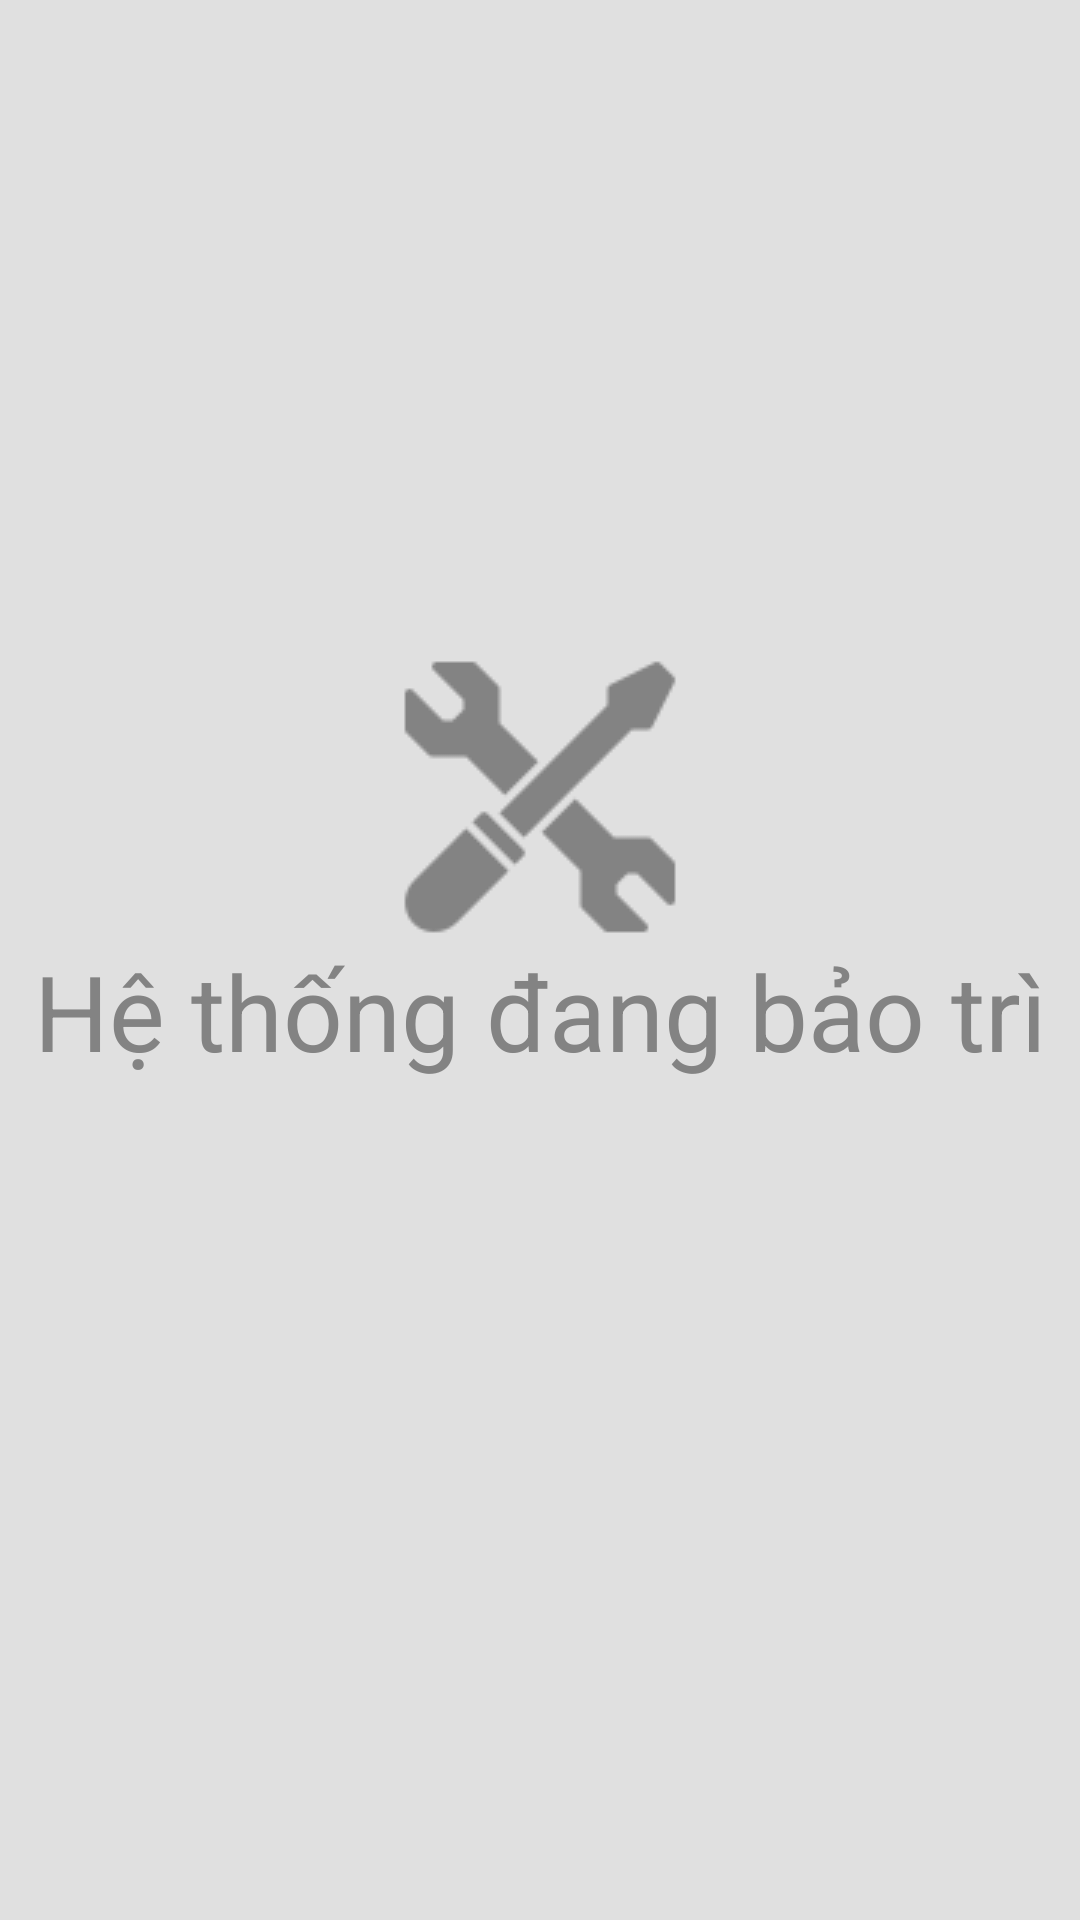

Point at icon controls on the screen. Image size 1080 x 1920, points as (x=x, y=y).
maintenance: (x=540, y=797)
